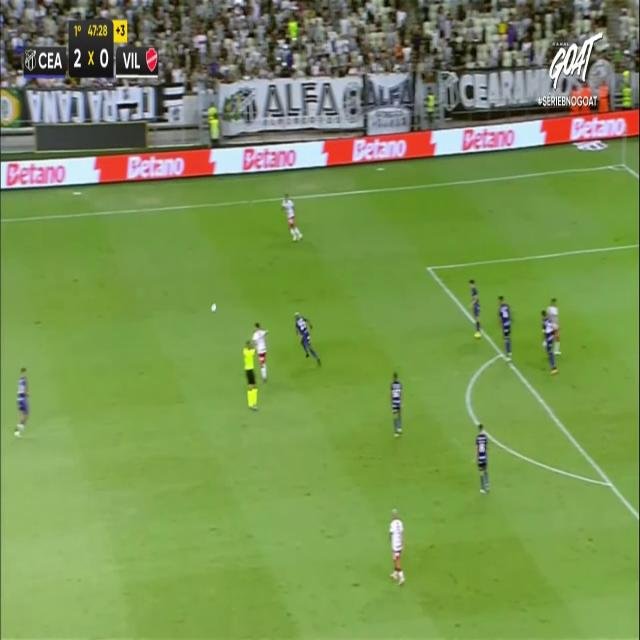ball: (210, 302, 216, 312)
player: (294, 310, 321, 366), (389, 507, 405, 585), (541, 309, 559, 375), (14, 366, 30, 438), (281, 191, 303, 242), (474, 423, 490, 493), (251, 321, 269, 382), (498, 294, 513, 359), (546, 298, 562, 358), (468, 278, 482, 338), (390, 371, 402, 437)
referee: (242, 339, 258, 411)
